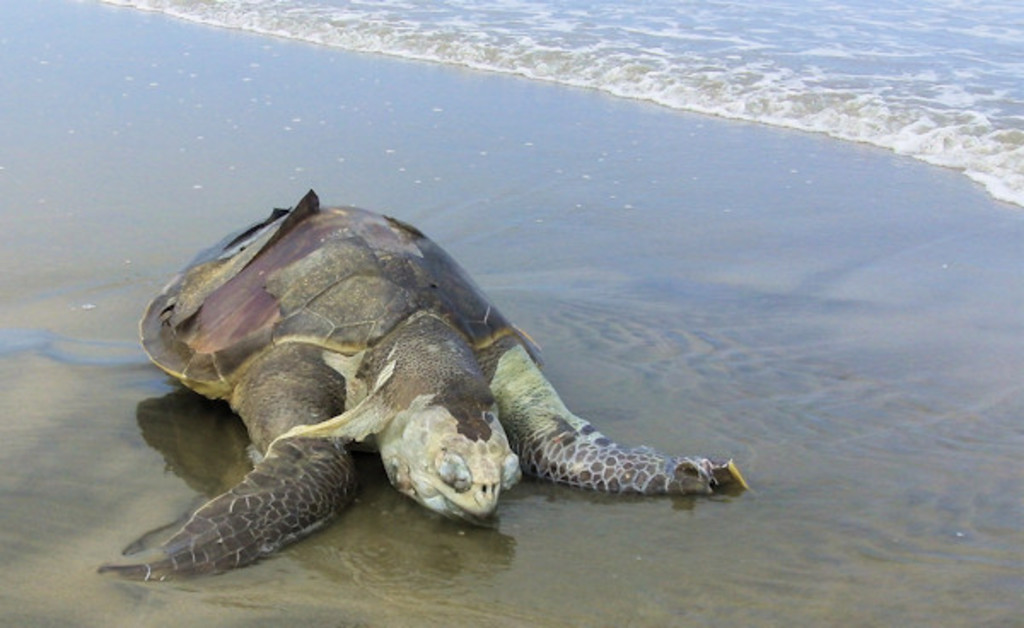Sea turtles: (98, 187, 750, 584)
